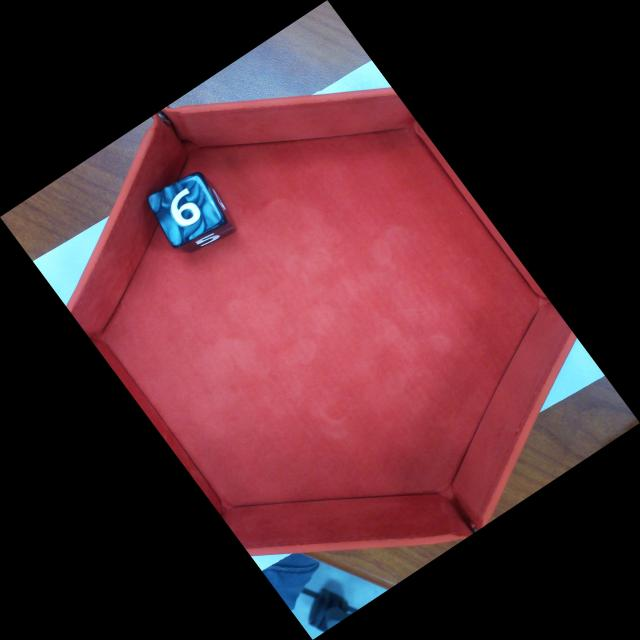dice: (153, 180, 221, 243)
